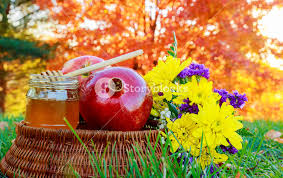apple: (56, 55, 114, 79)
damaged_apple: (80, 70, 155, 134)
